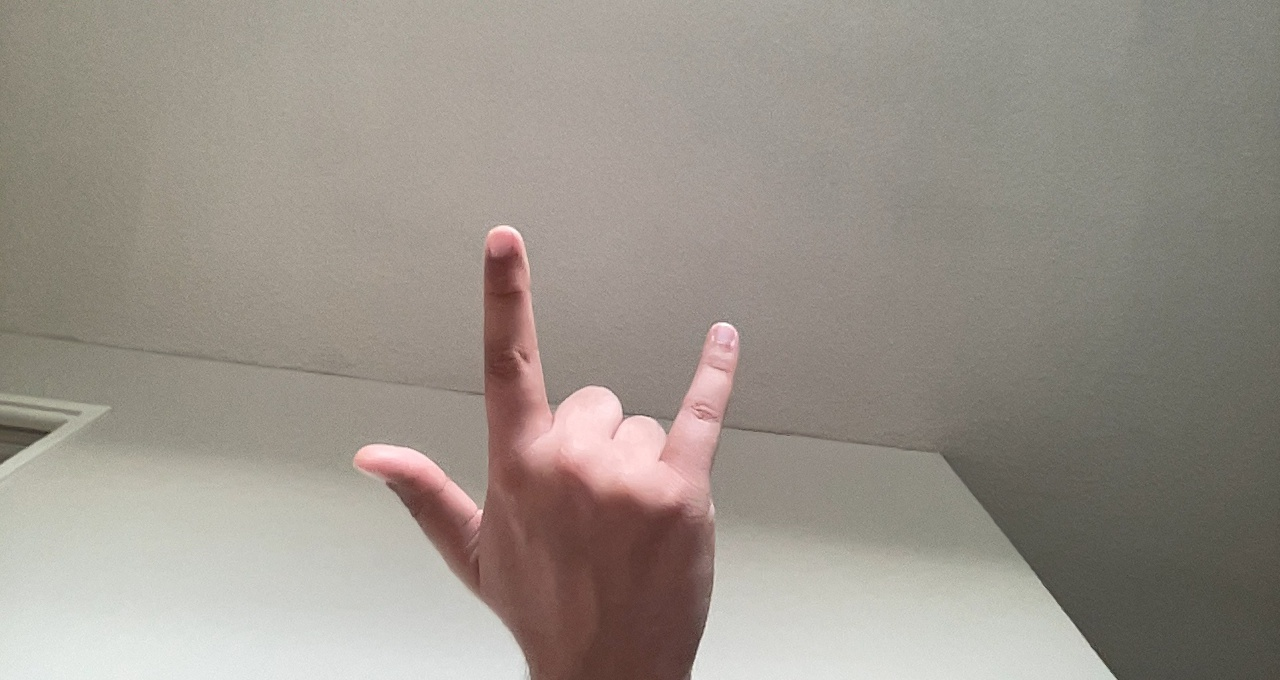rockon sign: (341, 218, 759, 653)
